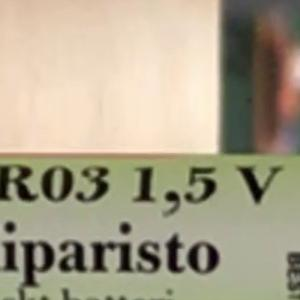1,5V: (123, 156, 293, 213)
